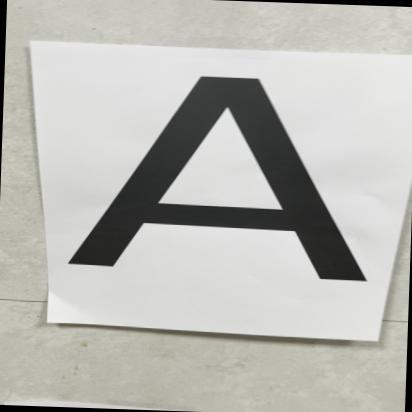seat: (54, 61, 389, 302)
